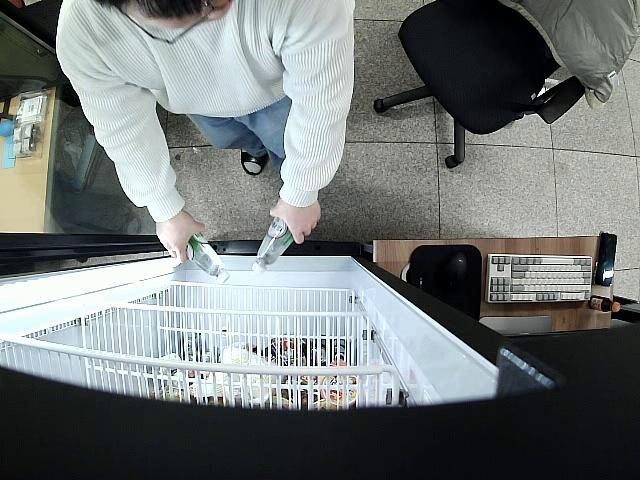18_trevi: (252, 215, 294, 276), (186, 233, 230, 283)
